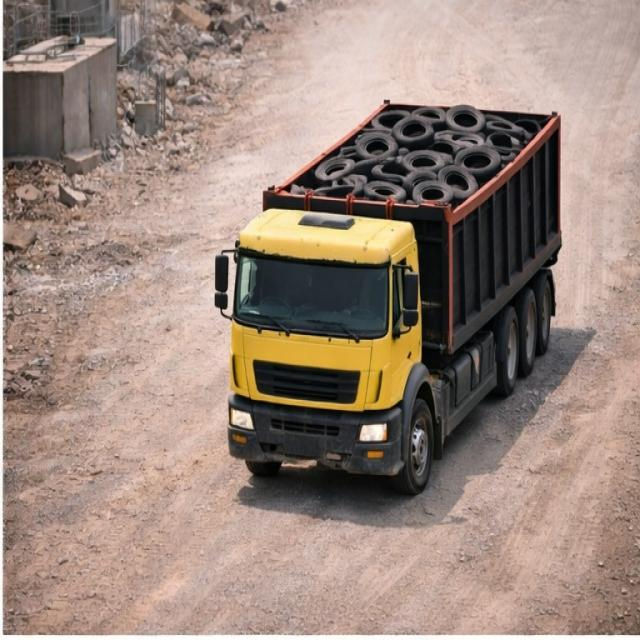Box: (269, 98, 559, 200)
Truck: (210, 83, 582, 474)
